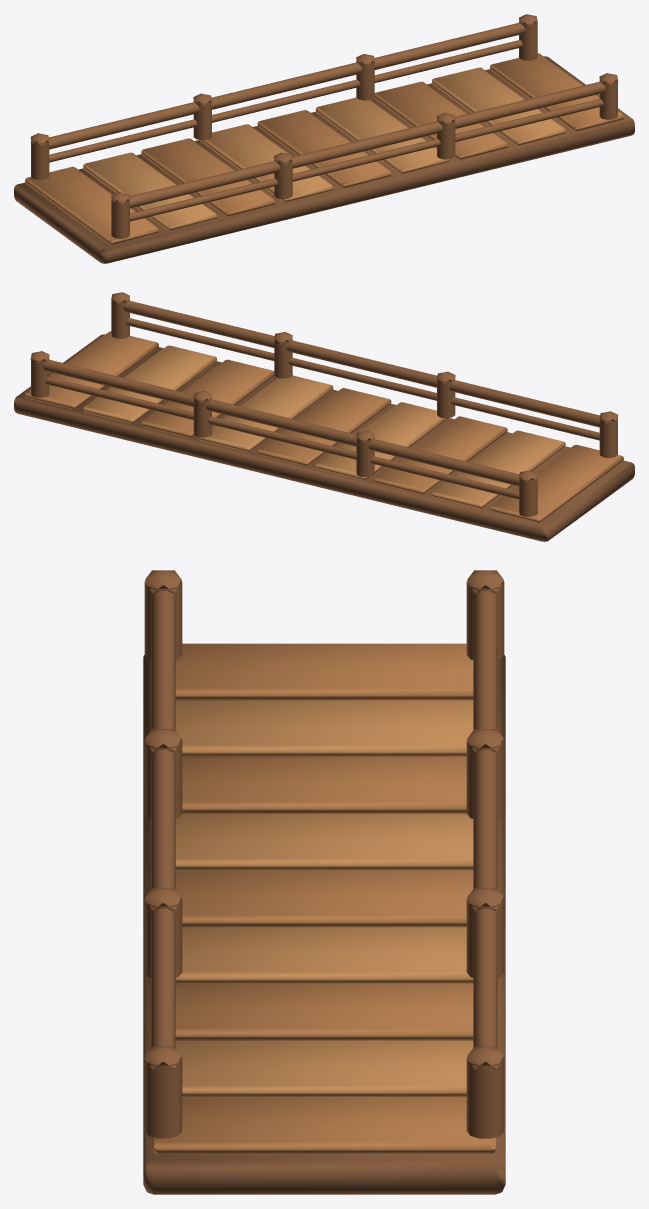
Rendered from v_bridge.glb.
The picture shows the model from 3 angles, top to bottom: view 1: azimuth 30°, elevation 25°; view 2: azimuth 150°, elevation 25°; view 3: azimuth 270°, elevation 25°; orthographic projection. The views are drawn at different scales.
Visible parts, largest first — view 1: Bridge; view 2: Bridge; view 3: Bridge.
Boxes of the visible parts, <box> form: Bridge: <box>14,14,634,263</box>; Bridge: <box>14,292,634,541</box>; Bridge: <box>143,570,505,1194</box>.
Size of the model in its own units: 4.6 by 0.529 by 1.35.
